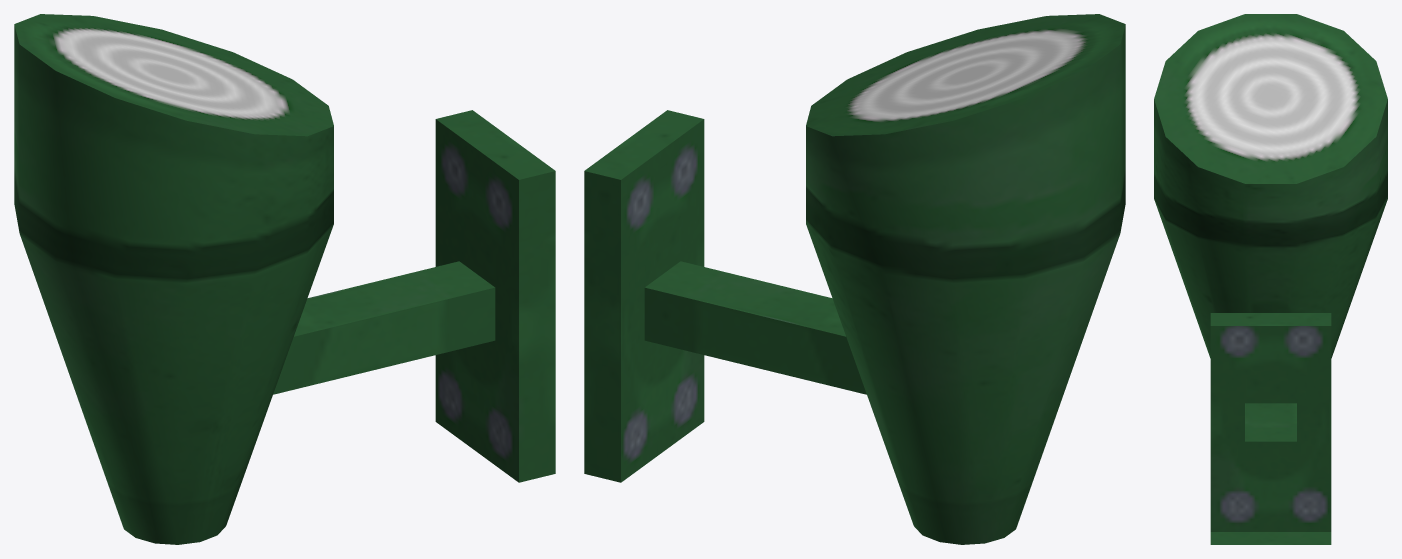
File: MB_Wall_Lamp_04.fbx
The picture shows the model from 3 angles, left to right: view 1: azimuth 30°, elevation 25°; view 2: azimuth 150°, elevation 25°; view 3: azimuth 270°, elevation 25°; orthographic projection. The views are drawn at different scales.
Visible parts, largest first — view 1: MB_Wall_Lamp_04; view 2: MB_Wall_Lamp_04; view 3: MB_Wall_Lamp_04.
Part boxes in pixels (x1=…): MB_Wall_Lamp_04: x1=14, y1=14, x2=555, y2=544; MB_Wall_Lamp_04: x1=584, y1=14, x2=1125, y2=544; MB_Wall_Lamp_04: x1=1154, y1=14, x2=1387, y2=544.
Size of the model in its own units: 26.01 by 26.18 by 15.29.
